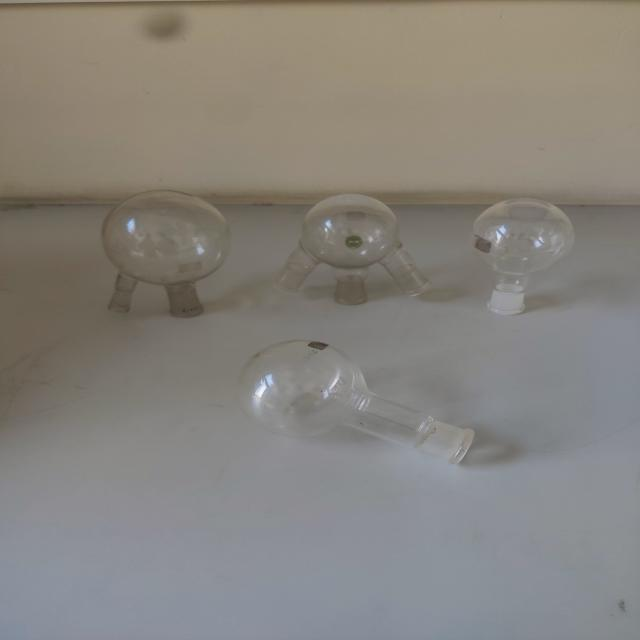Round_Bottom_Flask_Borosilicate_Glass_1_Neck: (186, 316, 500, 482), (453, 178, 601, 331)
Round_Bottom_Flask_Borosilicate_Glass_2_Neck: (78, 171, 250, 330)
Round_Bottom_Flask_Borosilicate_Glass_3_Neck: (267, 172, 451, 324)
